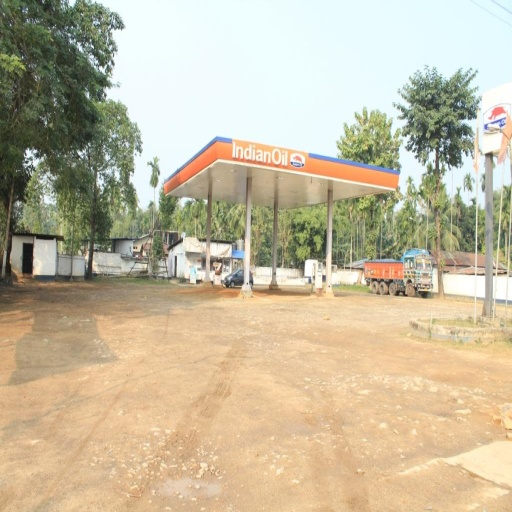roof: (162, 136, 402, 210)
